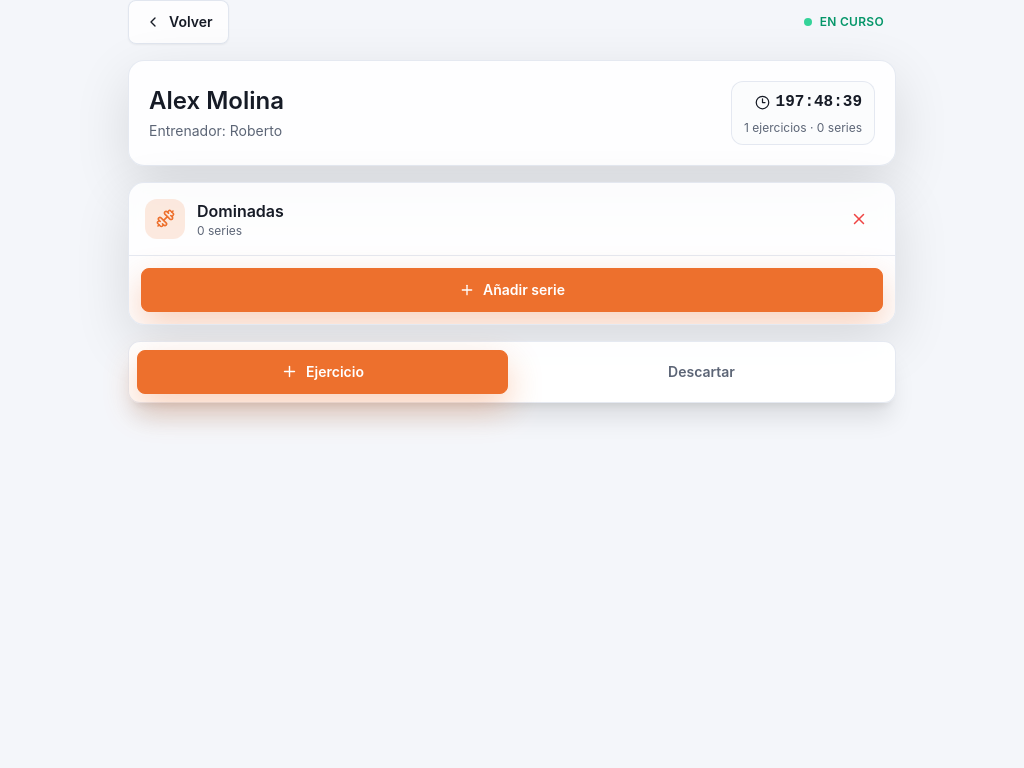
TrainingSessionPage › removes an exercise without series and can close the picker
The image size is (1024, 768).
Click the button named "Quitar ejercicio" at (859,218), box [839,198,879,238]
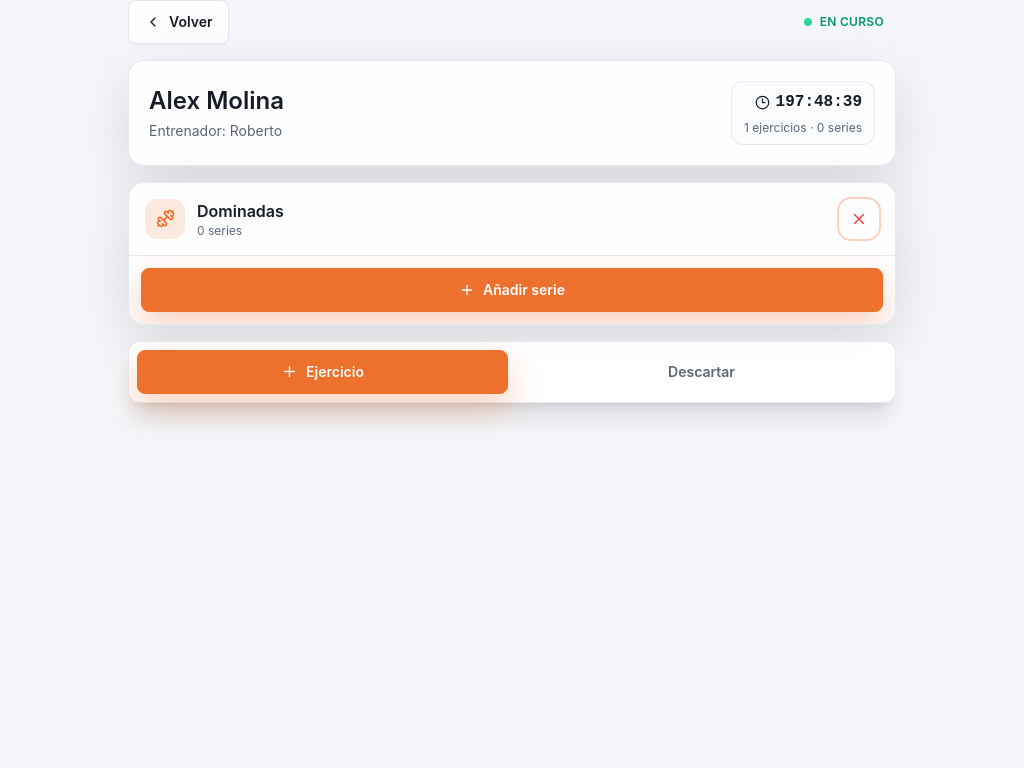
Click the button "Ejercicio" at (322,372), box [137,350,508,394]
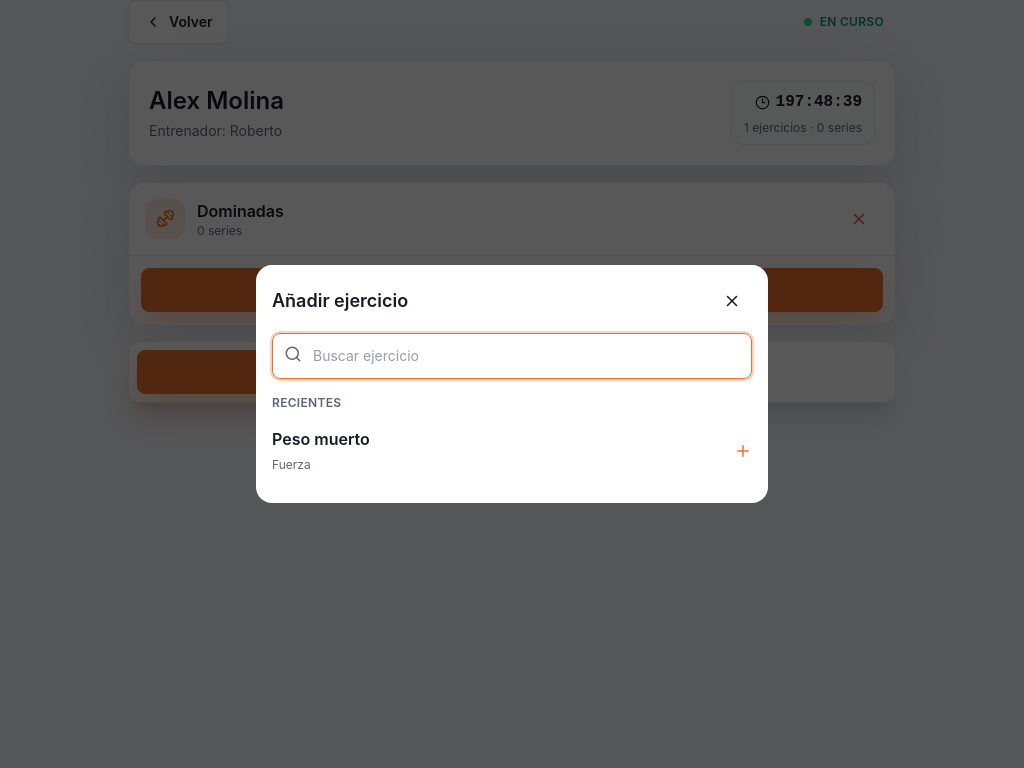
Type "Nada" into the field with placeholder "Buscar ejercicio" at (512,356), box [272,333,752,379]
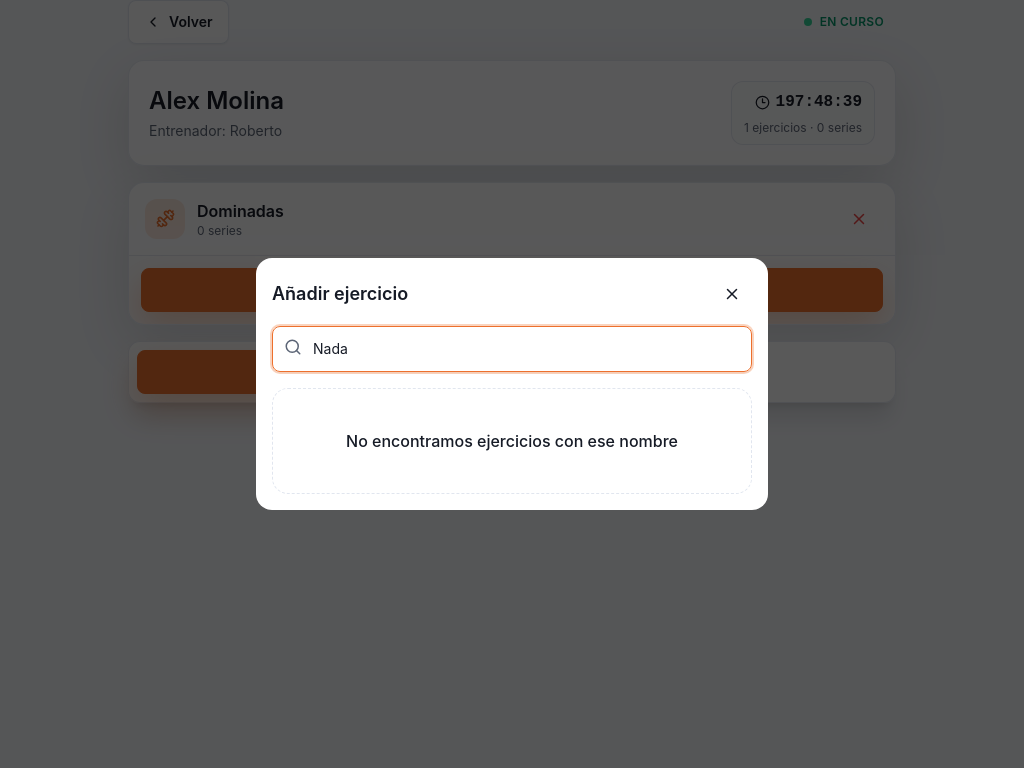
Check: the text "No encontramos ejercicios con ese nombre" is shown, box [346,431,678,451]
Click the button named "Cerrar" at (732,294), box [712,274,752,314]
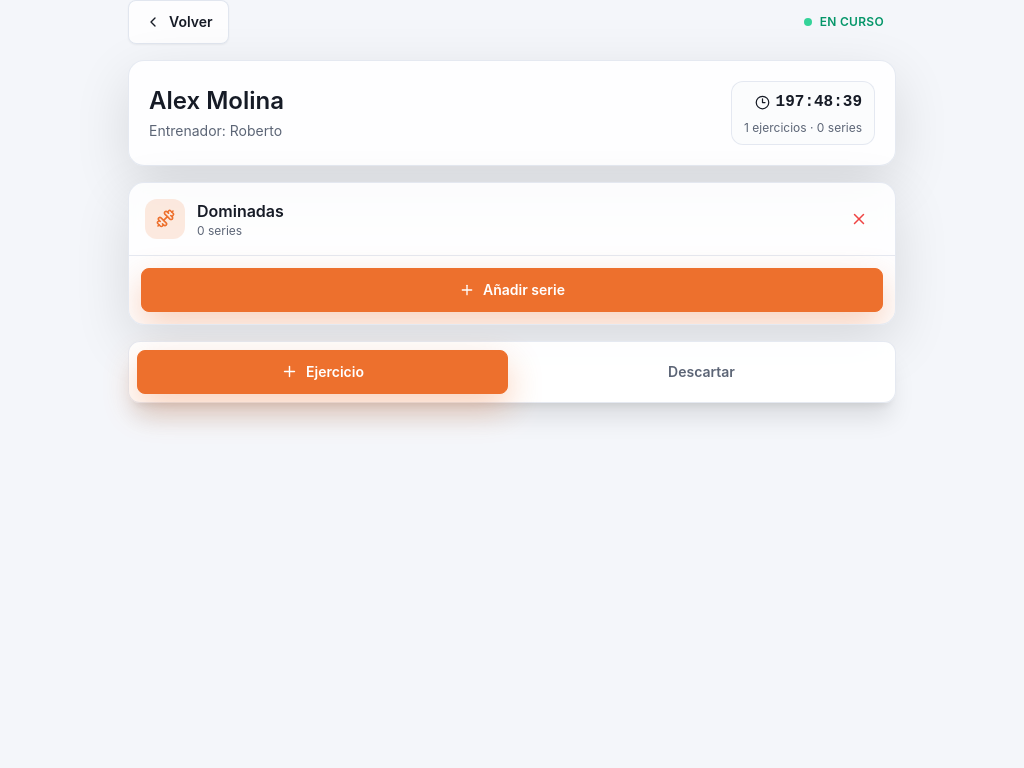
Check: the heading "Añadir ejercicio" is gone
